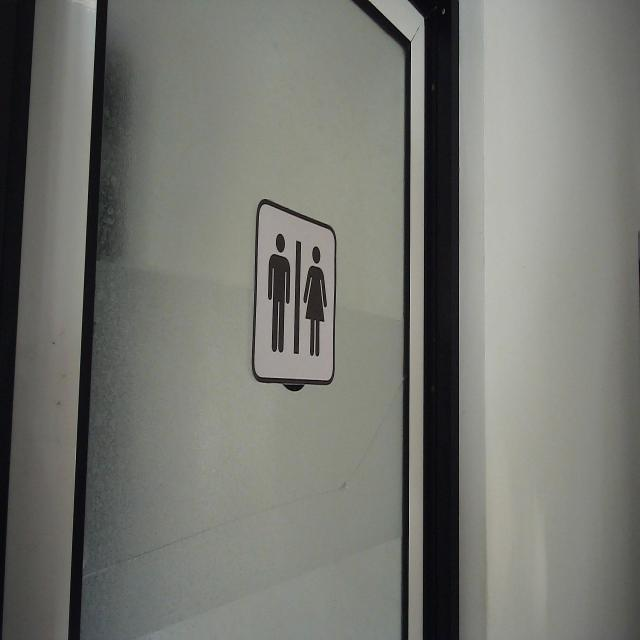restroom: (250, 196, 338, 390)
